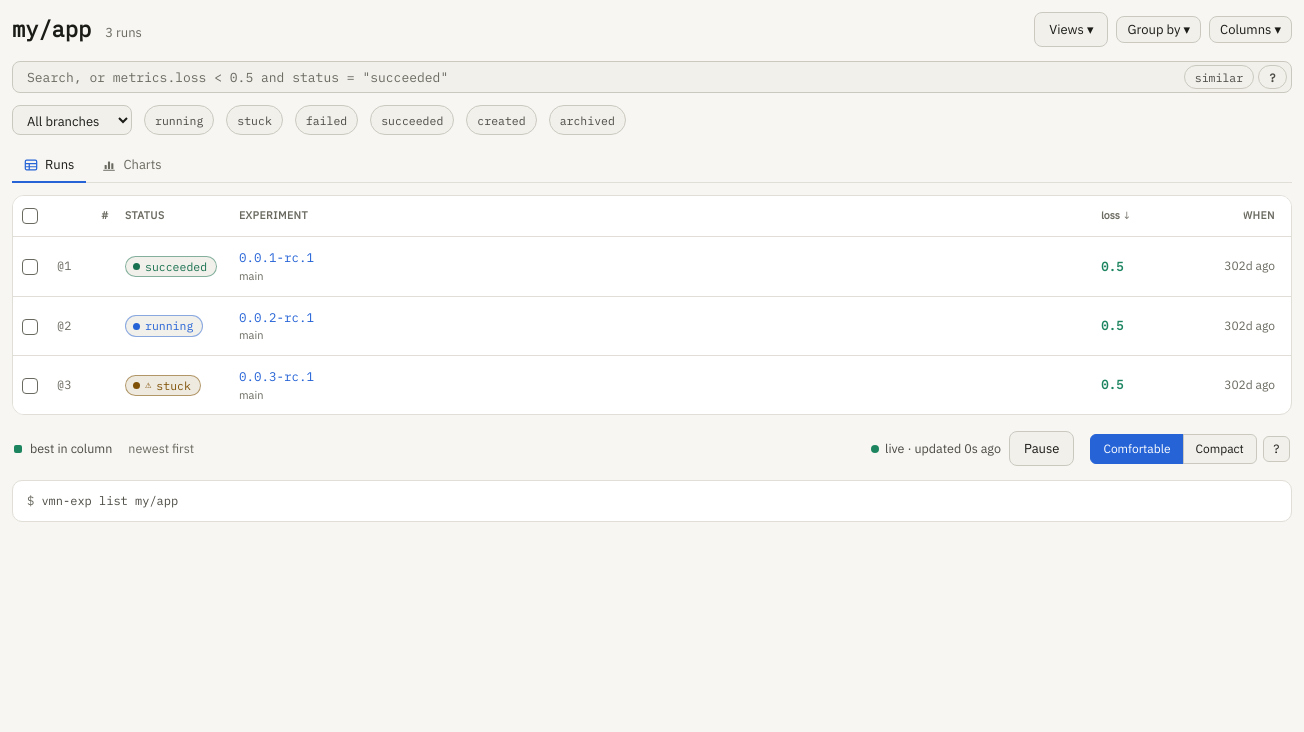
Leaderboard status filter › shows exactly the rows the server returned for the picked statuses
Check: the text "3 runs" is shown, box [105,23,142,42]
Check: the number of elements with class "status-pill" is 3, box [125,256,217,278]; [125,316,203,337]; [125,375,201,396]
What coordinates should you click on to do the following:
click the button "running"
I would click on:
 (179, 120)
Its box is [144,105,214,135].
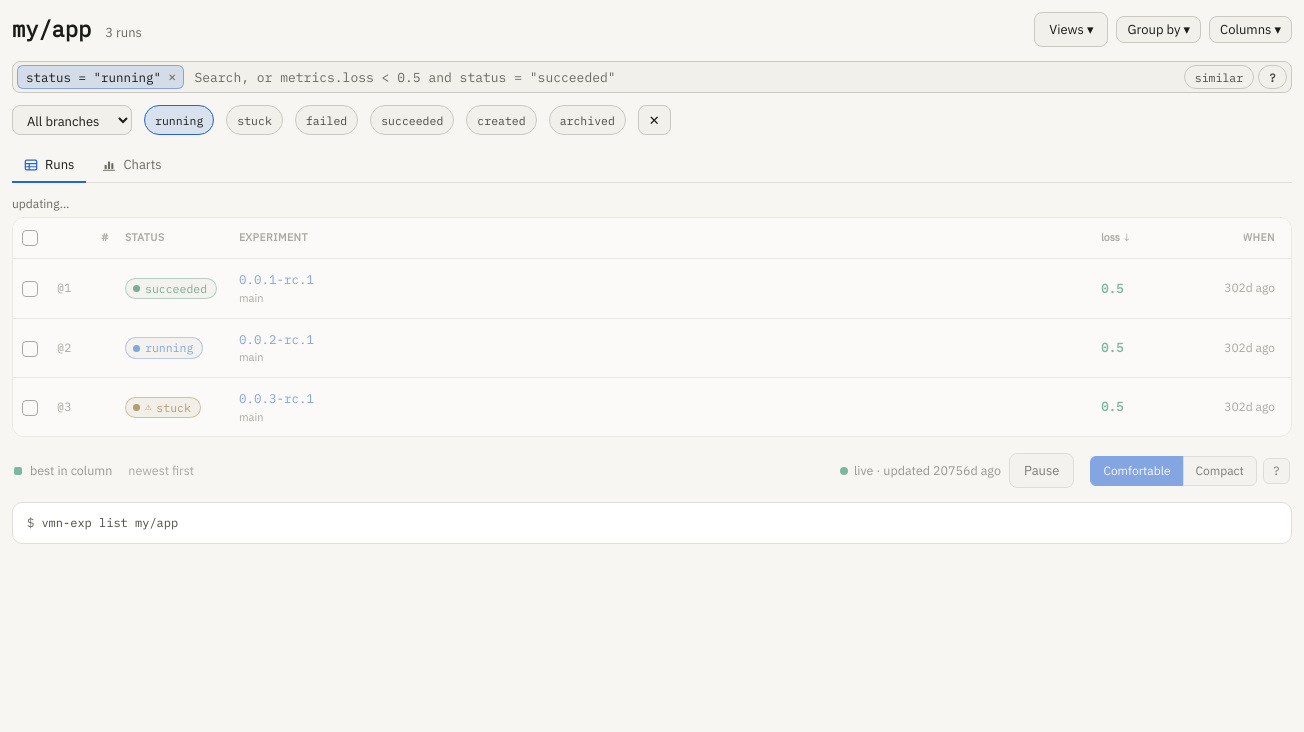
What coordinates should you click on to do the following:
click the button "stuck"
I would click on:
 (255, 120)
Its box is [226,105,283,135].
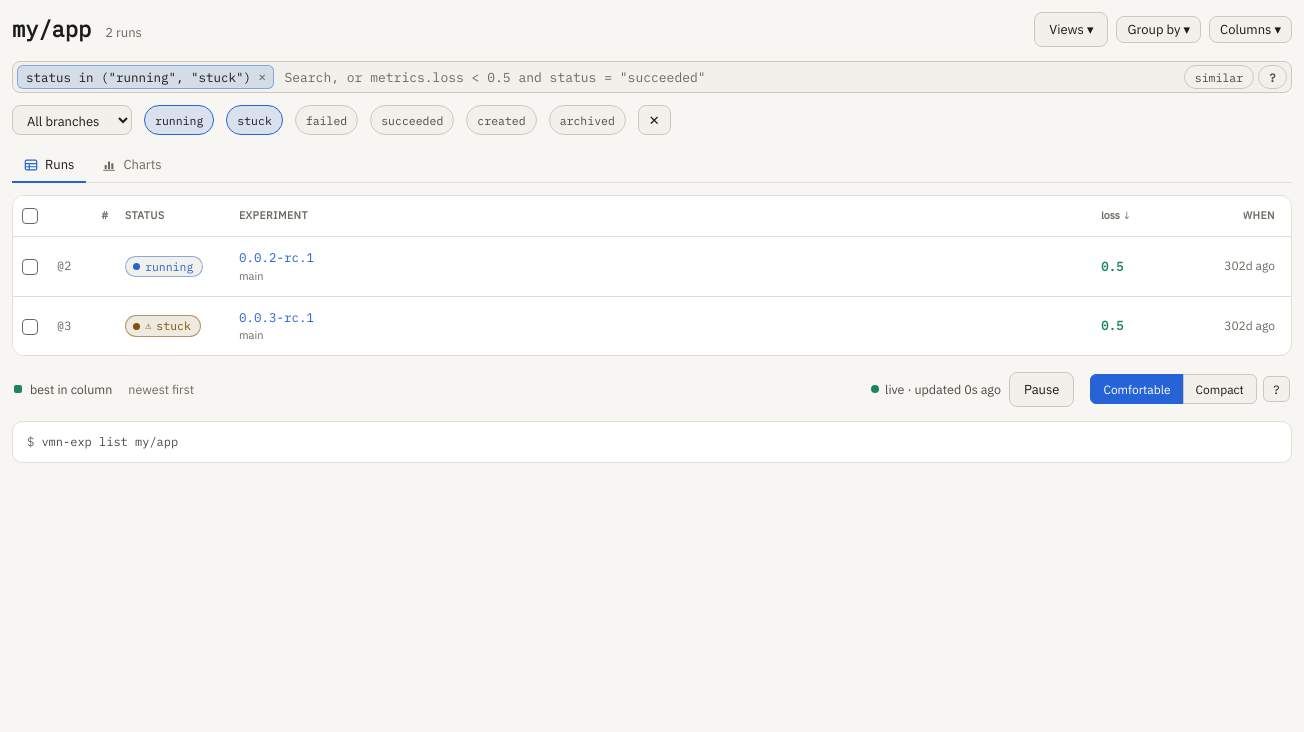
Check: the link "0.0.2-rc.1" is shown, box [239,248,314,267]
Check: the number of elements with class "status-pill" is 2, box [125,256,203,278]; [125,316,201,337]
Check: the link "0.0.1-rc.1" is gone
